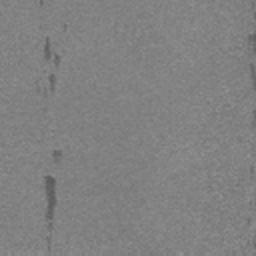Red iron sheet: (45, 175, 56, 220), (44, 37, 51, 60), (250, 64, 256, 90), (52, 150, 62, 163), (49, 74, 56, 92)
